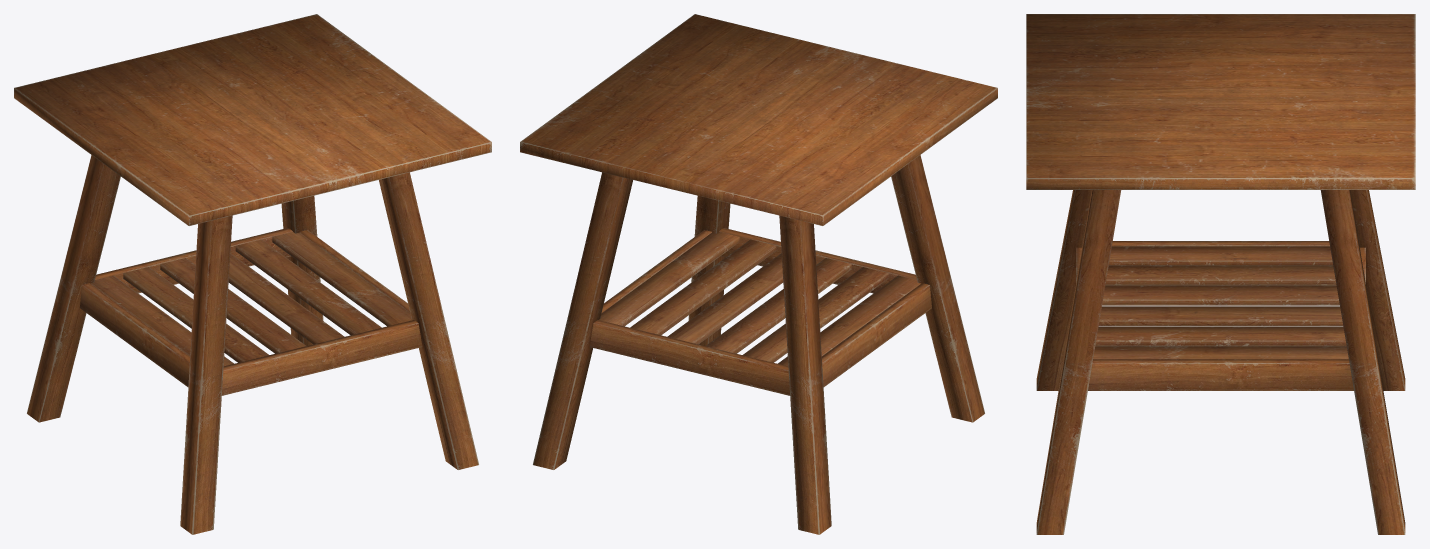
File: endTable02_a.FBX
The picture shows the model from 3 angles, left to right: view 1: azimuth 30°, elevation 25°; view 2: azimuth 150°, elevation 25°; view 3: azimuth 270°, elevation 25°; orthographic projection. The views are drawn at different scales.
Visible parts, largest first — view 1: SM_EndTable02; view 2: SM_EndTable02; view 3: SM_EndTable02.
Part boxes in pixels (bbox=[...]): SM_EndTable02: bbox=[14, 14, 491, 534]; SM_EndTable02: bbox=[520, 14, 997, 534]; SM_EndTable02: bbox=[1026, 14, 1415, 534].
Bounding box in the file's own units: 69.08 × 70.66 × 69.08.
1 material, 1 textured.
